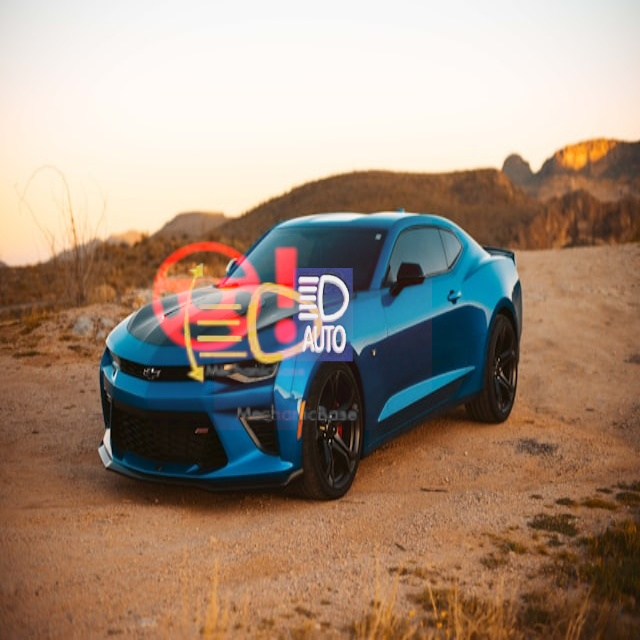symbol: (214, 212, 432, 430), (148, 214, 361, 427), (137, 210, 312, 385), (290, 30, 431, 171)
